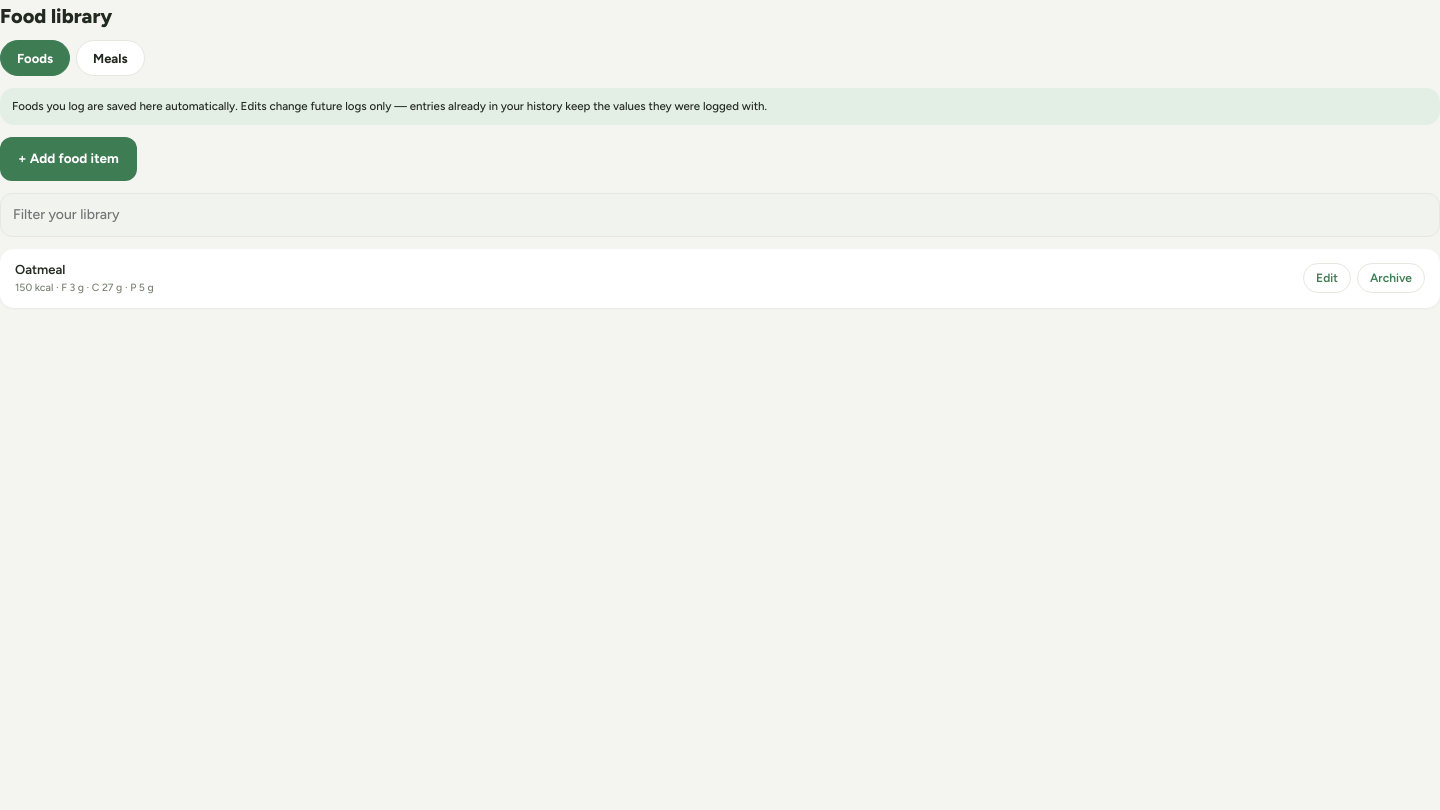
it: FoodsScreen save as new food › still renames in place when the user picks Save changes
Click the button "Edit": (1327, 278) [1303,264,1351,294]
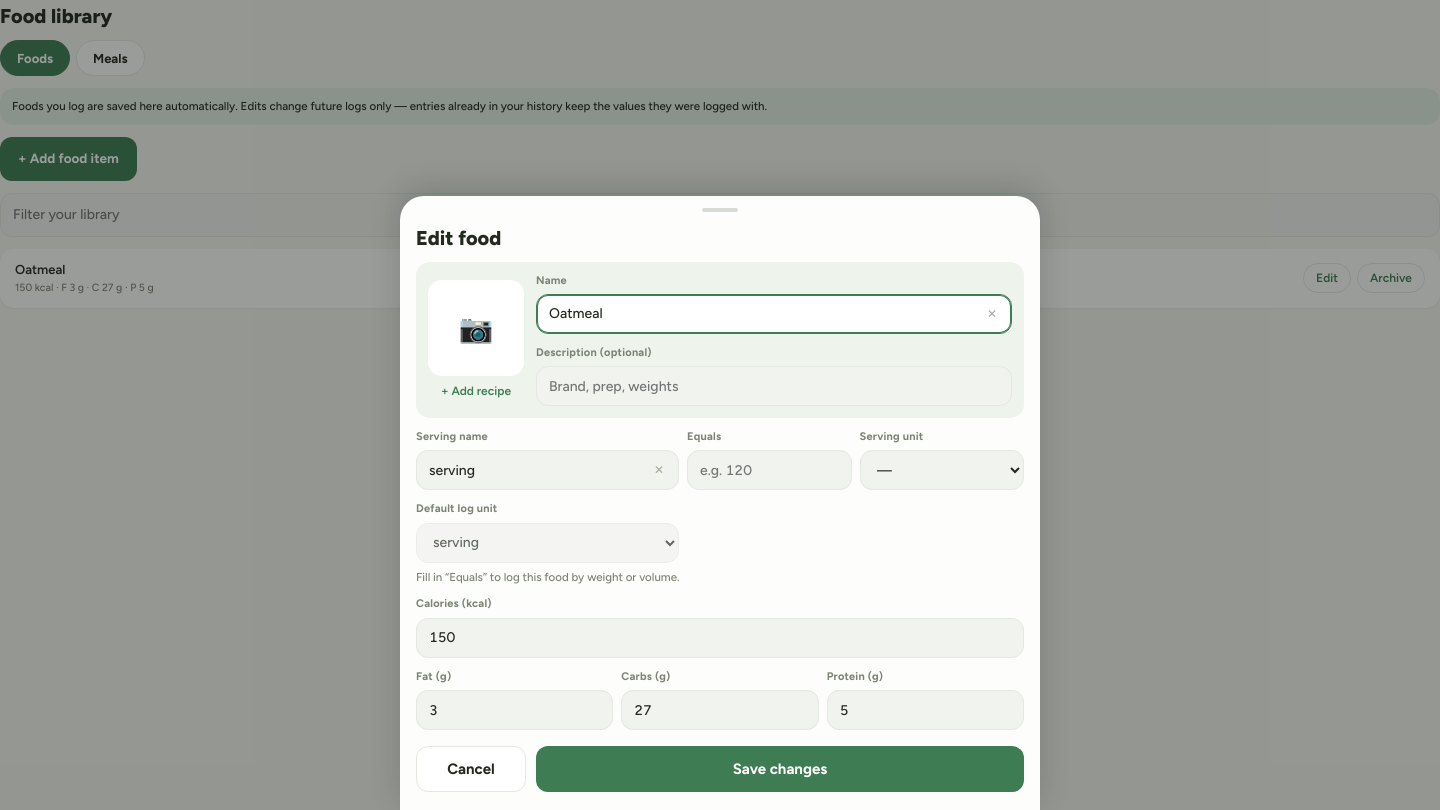
Replace the text in the field labelled "Name" with "Oatmeal, steel cut": (774, 314) [536,294,1012,334]
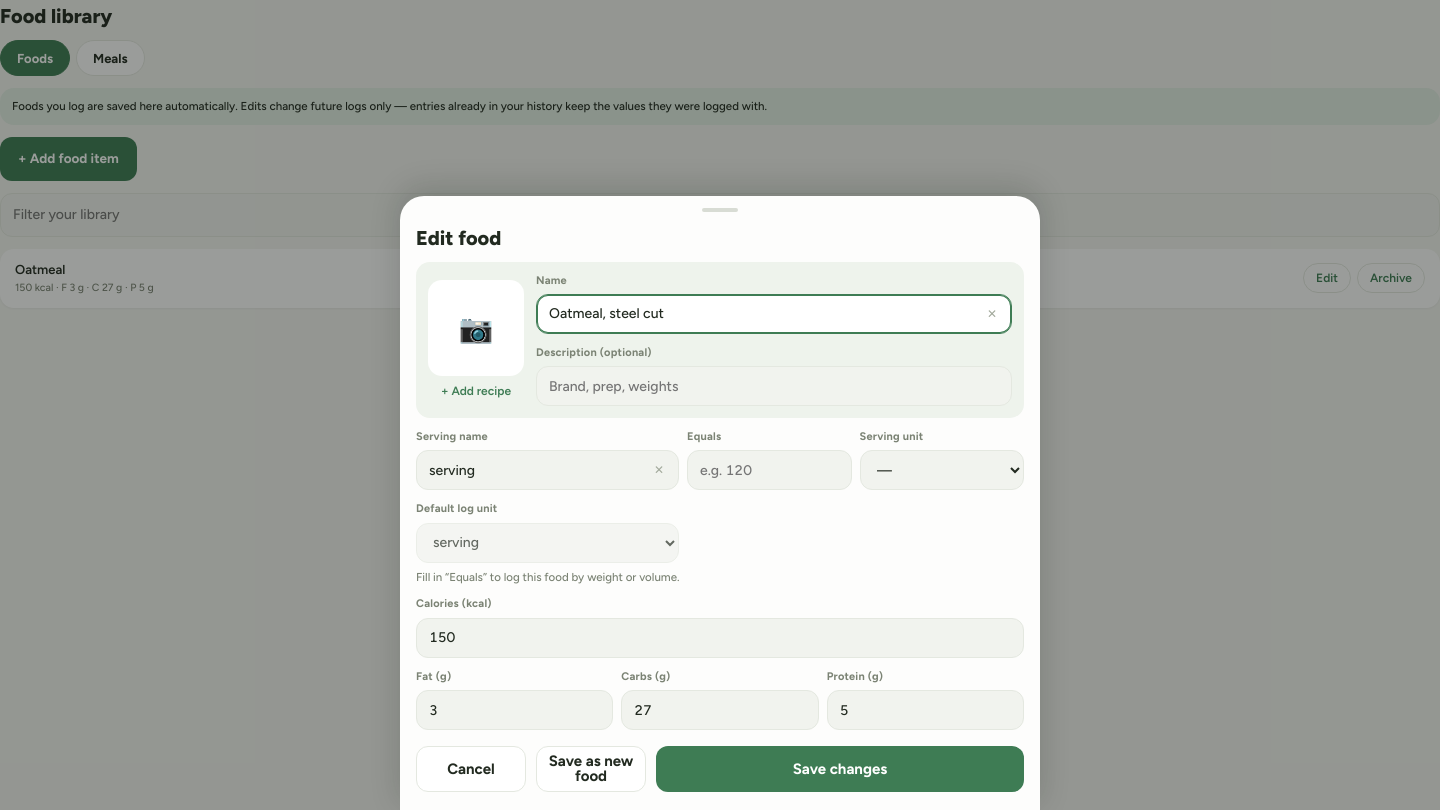
Click the button "Save changes": (840, 769) [656,746,1024,792]
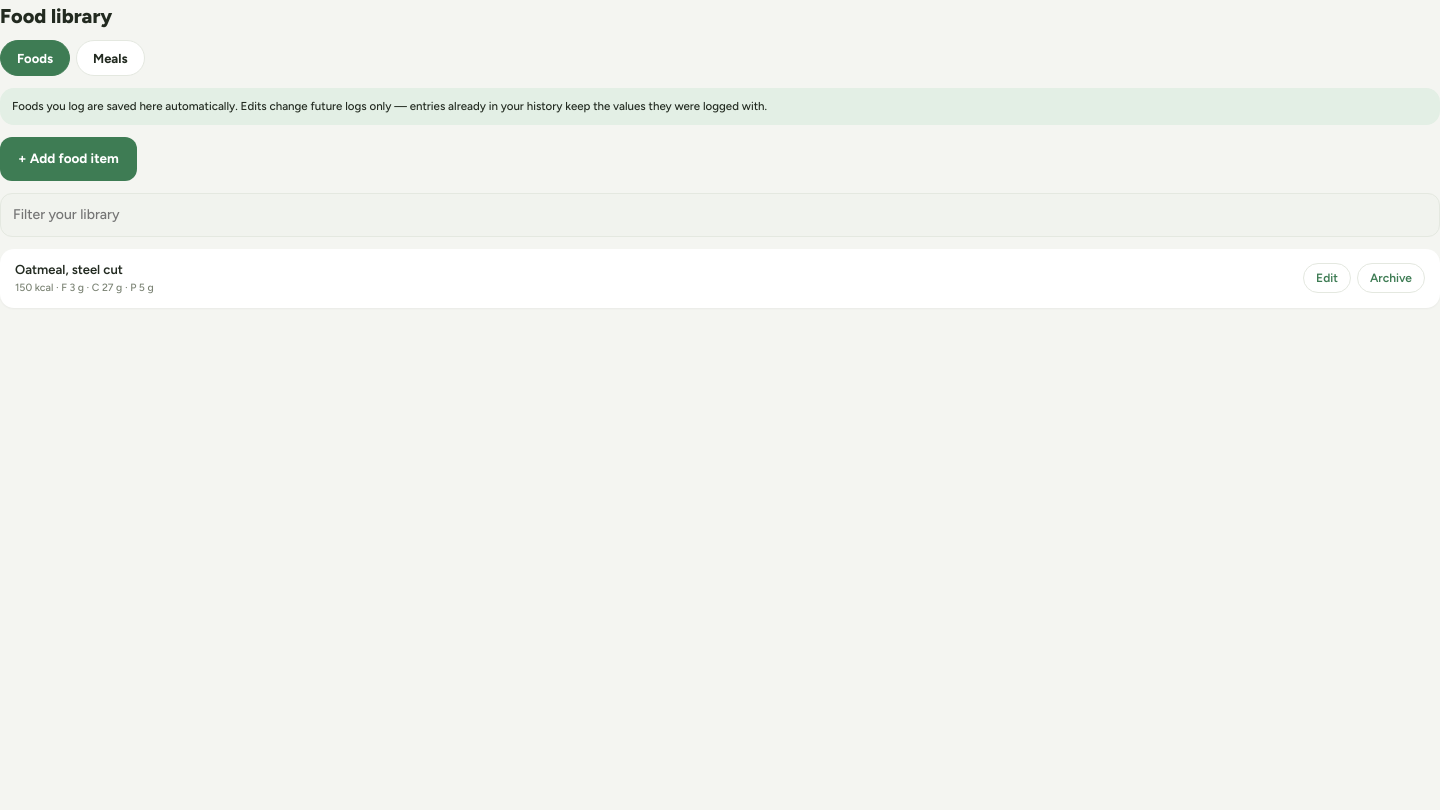
Check: the text "Oatmeal, steel cut" is shown, box [15,262,123,279]
